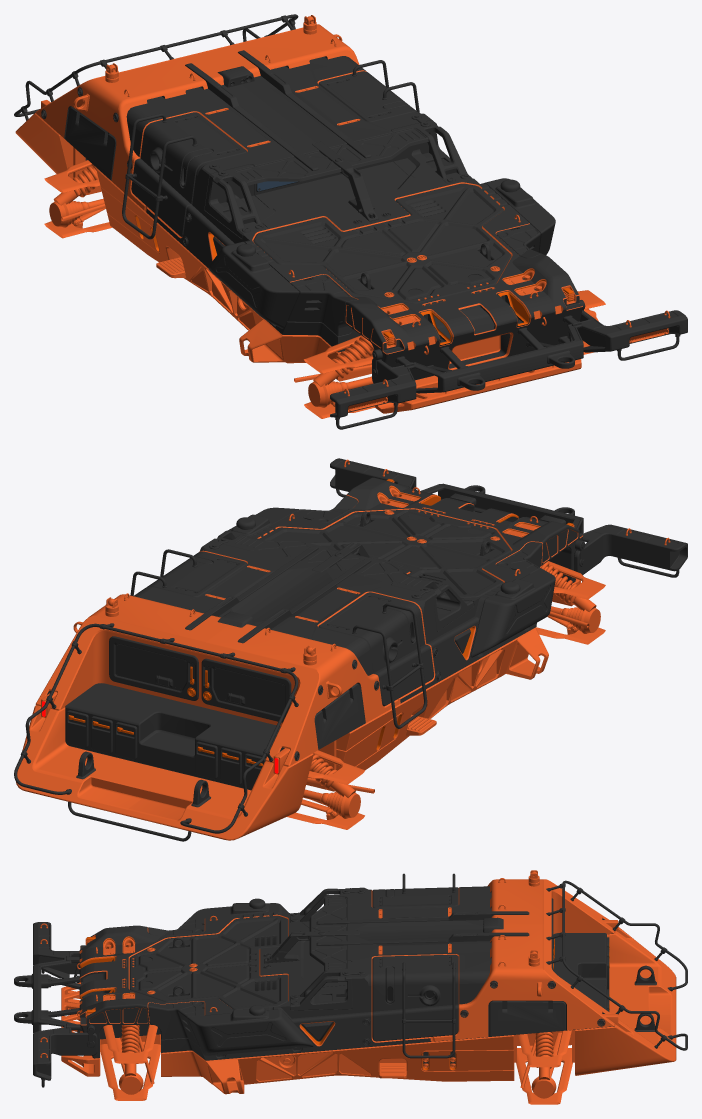
Rendered from car.glb.
3 views of the same model, one above another, from view 1: azimuth 30°, elevation 25°; view 2: azimuth 150°, elevation 25°; view 3: azimuth 270°, elevation 25° (orthographic). The views are drawn at different scales.
Visible parts, largest first — view 1: body_chassis, Material2.1098, Material2.1791, Material2.1100; view 2: body_chassis, Material2.1791, Material2.1098; view 3: body_chassis, Material2.1388, Material2.1387, Material2.1441, Material2.1420, Material2.1440, Material2.1473, Material2.1371, Material2.1372, Material2.1418, Material2.1471, Material2.1425 (+1 smaller).
Part boxes in pixels (left/top/right/bottom): body_chassis: left=14, top=14, right=687, bottom=429; Material2.1098: left=308, top=376, right=373, bottom=407; Material2.1791: left=49, top=198, right=104, bottom=227; Material2.1100: left=332, top=336, right=374, bottom=378; body_chassis: left=14, top=458, right=687, bottom=841; Material2.1791: left=303, top=789, right=360, bottom=818; Material2.1098: left=550, top=606, right=600, bottom=633; body_chassis: left=14, top=870, right=687, bottom=1094; Material2.1388: left=100, top=1044, right=130, bottom=1099; Material2.1387: left=130, top=1044, right=160, bottom=1099; Material2.1441: left=544, top=1048, right=572, bottom=1103; Material2.1420: left=121, top=1025, right=139, bottom=1064; Material2.1440: left=516, top=1048, right=544, bottom=1103; Material2.1473: left=535, top=1031, right=553, bottom=1068; Material2.1371: left=130, top=1024, right=157, bottom=1061; Material2.1372: left=103, top=1025, right=130, bottom=1061; Material2.1418: left=119, top=1073, right=143, bottom=1094; Material2.1471: left=531, top=1076, right=556, bottom=1098; Material2.1425: left=544, top=1030, right=571, bottom=1065.
Bounding box in the file's own units: 1.46 × 0.6527 × 2.95.
